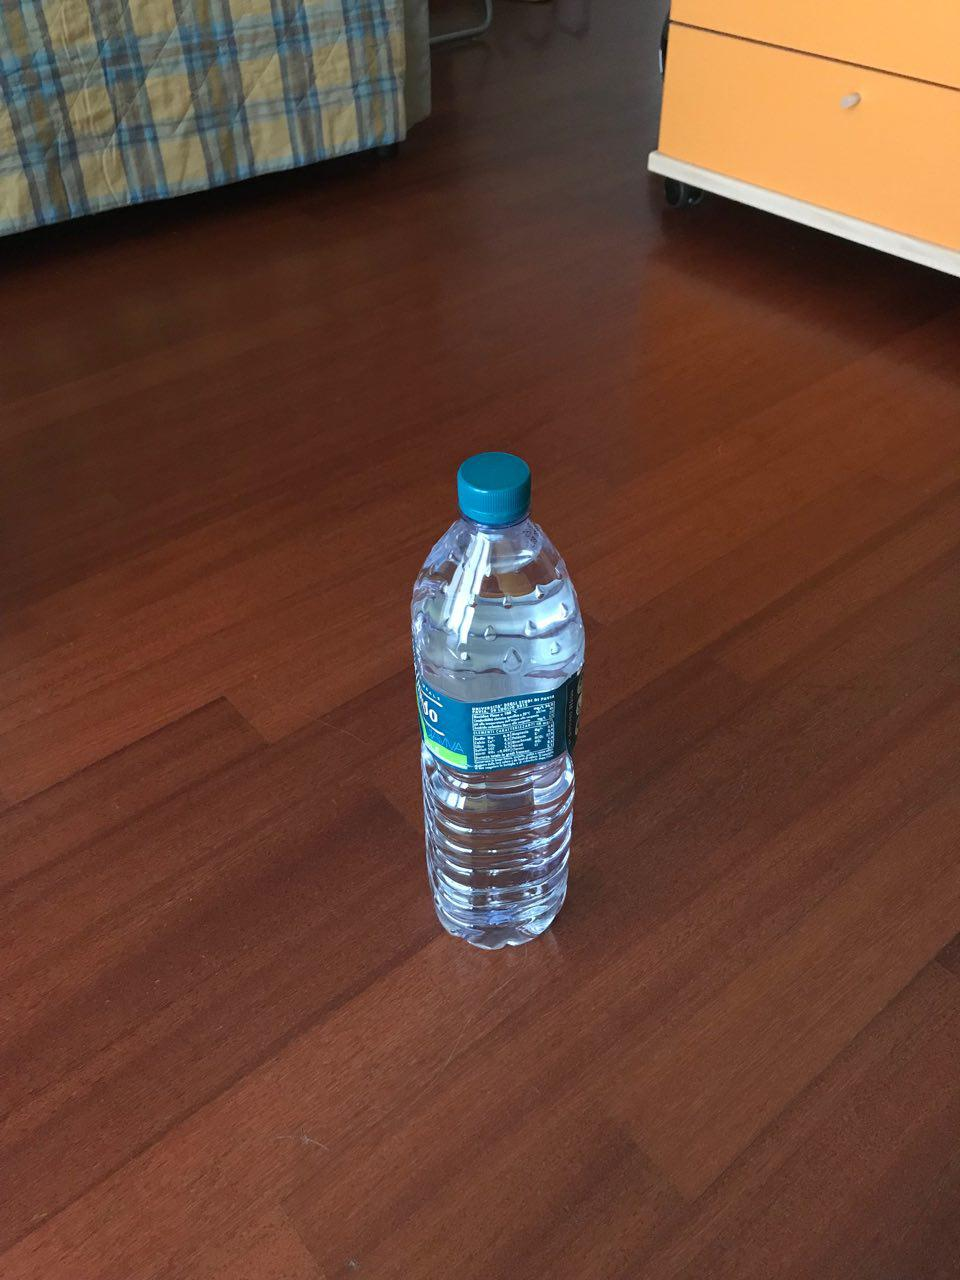san_bernardo: (408, 447, 587, 954)
